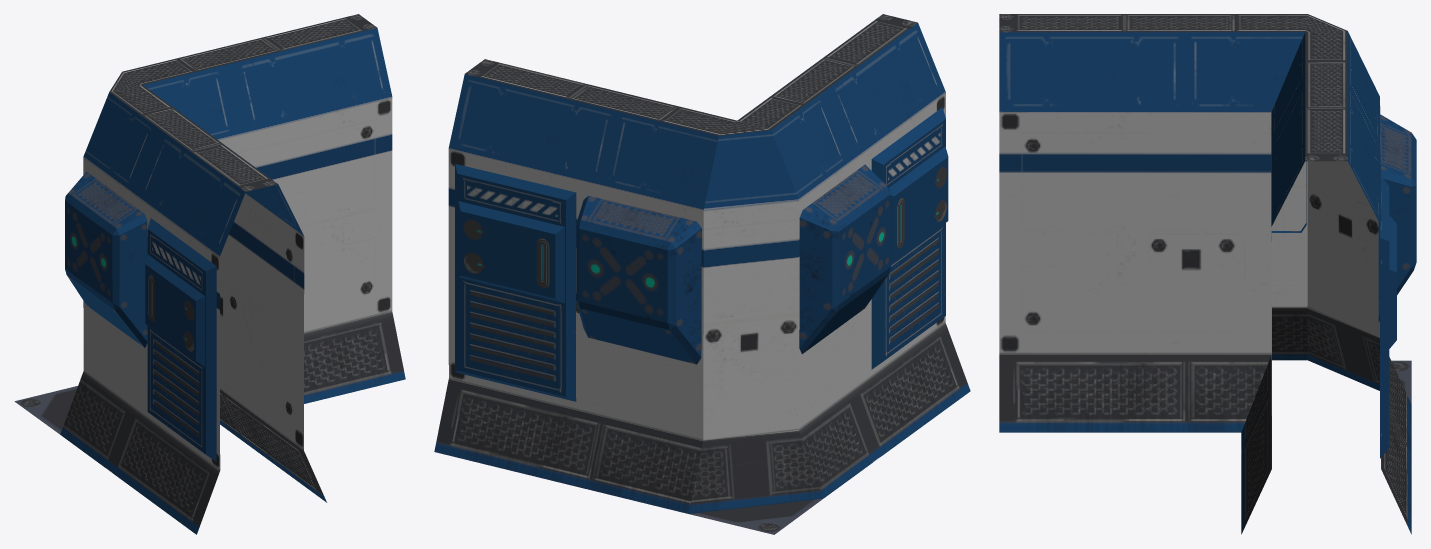
The model's file is Wall_angle_8_Sci_Fi.fbx.
3 renders of one model, left to right at view 1: azimuth 30°, elevation 25°; view 2: azimuth 150°, elevation 25°; view 3: azimuth 270°, elevation 25°, orthographic. The views are drawn at different scales.
Visible parts, largest first — view 1: Wall_angle_8_Sci_Fi; view 2: Wall_angle_8_Sci_Fi; view 3: Wall_angle_8_Sci_Fi.
Part boxes in pixels (box(x1,y1,x2,y2)): Wall_angle_8_Sci_Fi: box(14, 14, 405, 534); Wall_angle_8_Sci_Fi: box(434, 14, 970, 534); Wall_angle_8_Sci_Fi: box(999, 14, 1416, 534).
Bounding box in the file's own units: 401 × 395 × 400.
